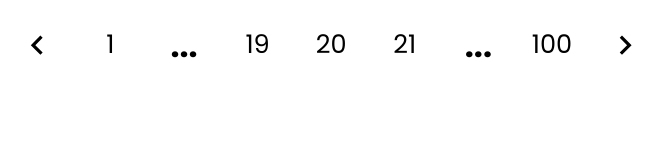
Test case: Wnen next button is clicked › should display next page
The width and height of the screenshot is (669, 160).
expect the button "1" is shown: met, box [82,16,138,74]
expect the button "19" is shown: met, box [229,16,286,74]
Click the button with test id "next": (626, 45) [598,16,653,74]
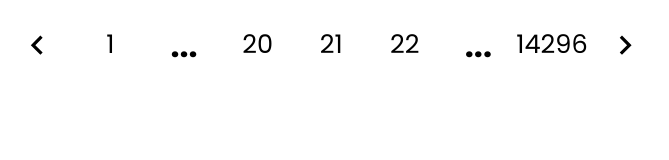
expect the button "20" is shown: met, box [229,16,286,74]
expect the button "22" is shown: met, box [376,16,434,74]
